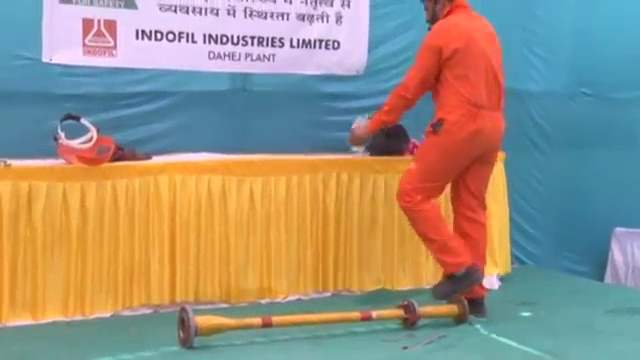helmet_off: (418, 1, 457, 24)
person: (352, 1, 504, 327)
